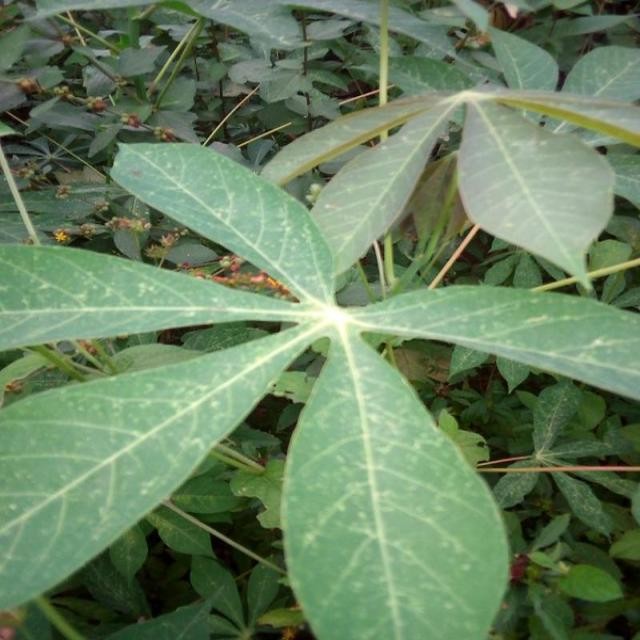cassava leaf: (0, 37, 638, 637), (279, 322, 511, 638), (108, 139, 335, 307)
